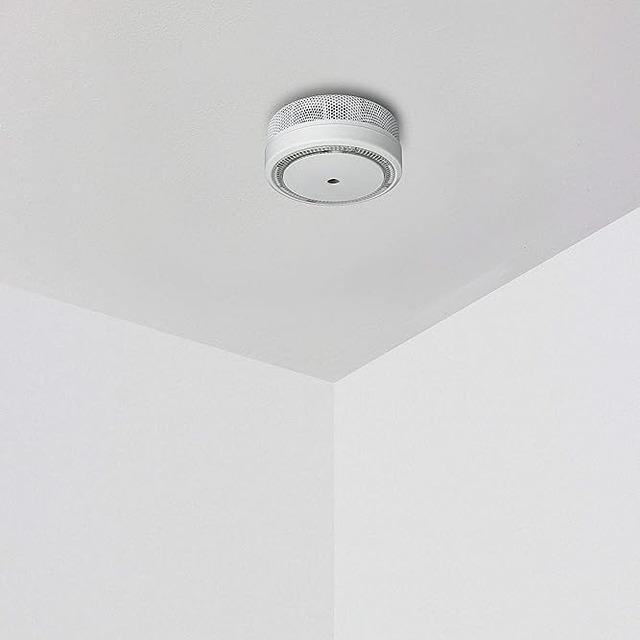Smoke-Detector: (266, 92, 402, 224)
